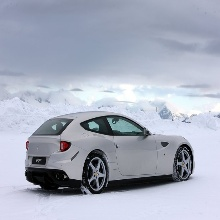no damage: (25, 110, 195, 193)
